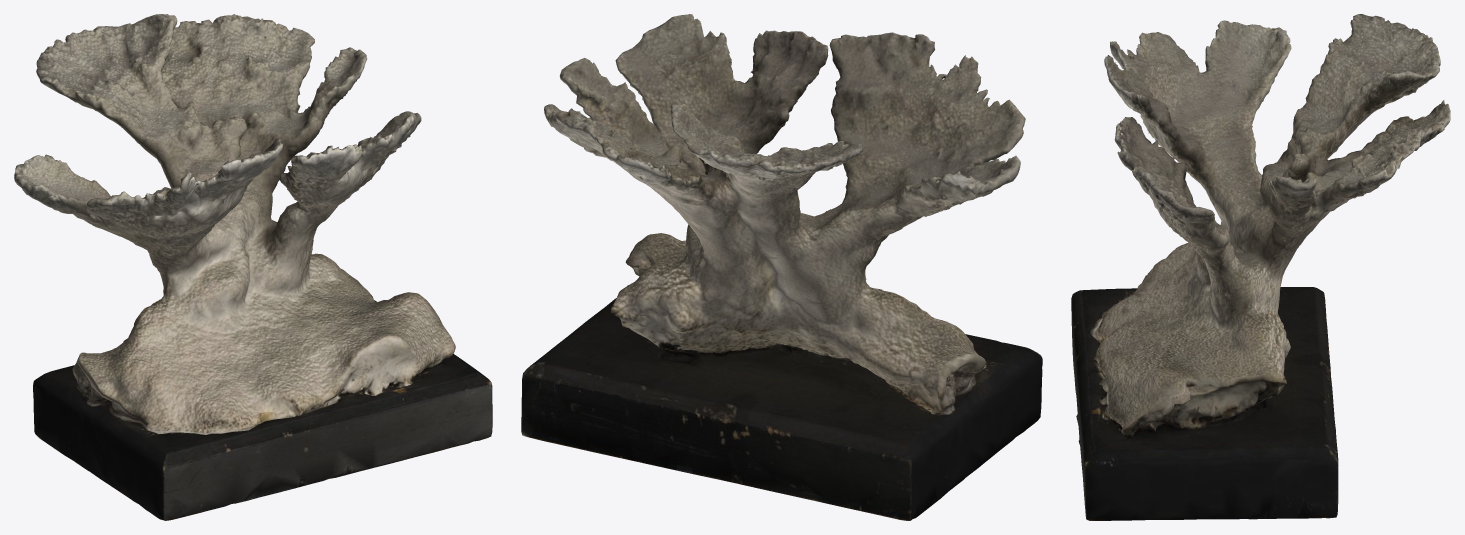
Rendered from smithsonian-acropora-palmata.glb.
3 views of the same model, side by side, from view 1: azimuth 30°, elevation 25°; view 2: azimuth 150°, elevation 25°; view 3: azimuth 270°, elevation 25° (orthographic). The views are drawn at different scales.
Size of the model in its own units: 0.3242 by 0.2781 by 0.2637.
Materials: 1 (1 with a texture image).
